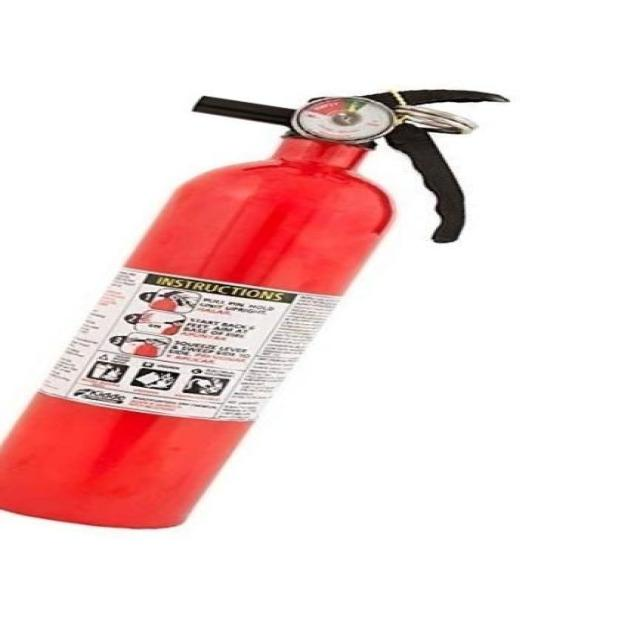fire_extinguisher: (0, 85, 513, 534)
